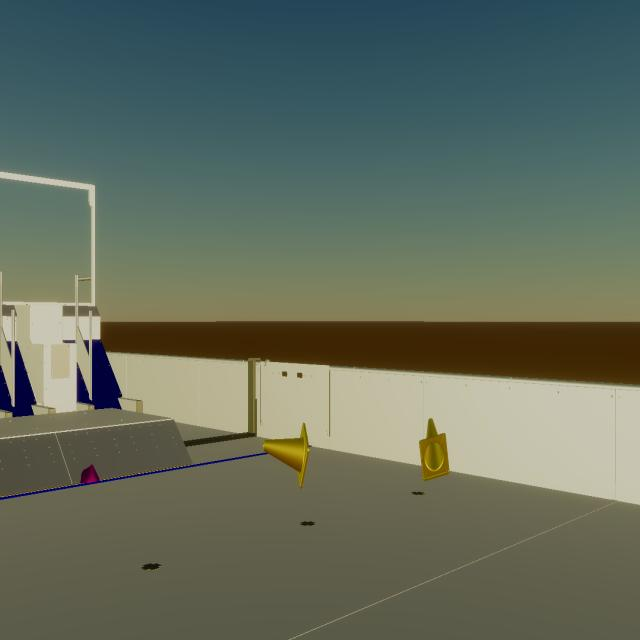frc_cone: (263, 422, 310, 489), (419, 418, 450, 482)
frc_cube: (80, 464, 100, 484)
